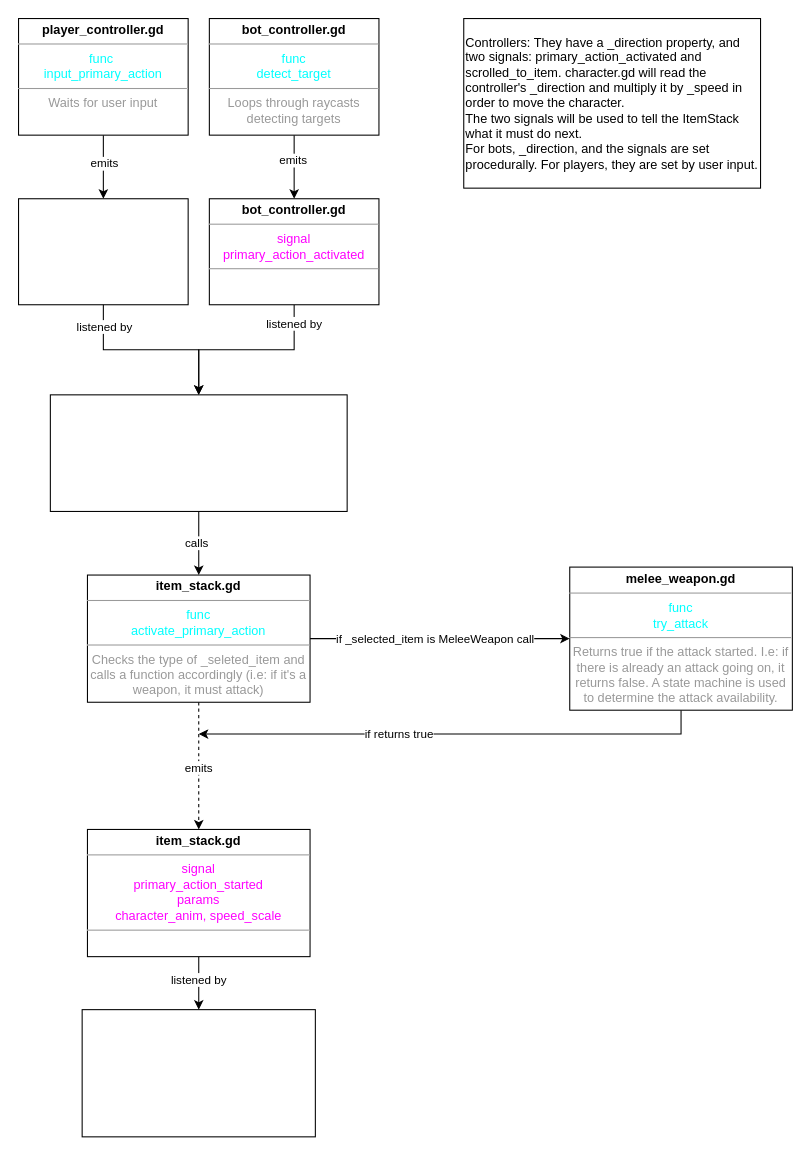
Image size: 811x1155. Some labels were removed from this diagram. Each missing label, with the box of its shape:
character.gd func on_character_controller_primary_action_activated: (49, 394, 347, 511)
character.gd func on_item_stack_primary_action_started: (81, 1009, 315, 1137)
player_controller.gd signal primary_action_activated: (17, 198, 188, 305)
